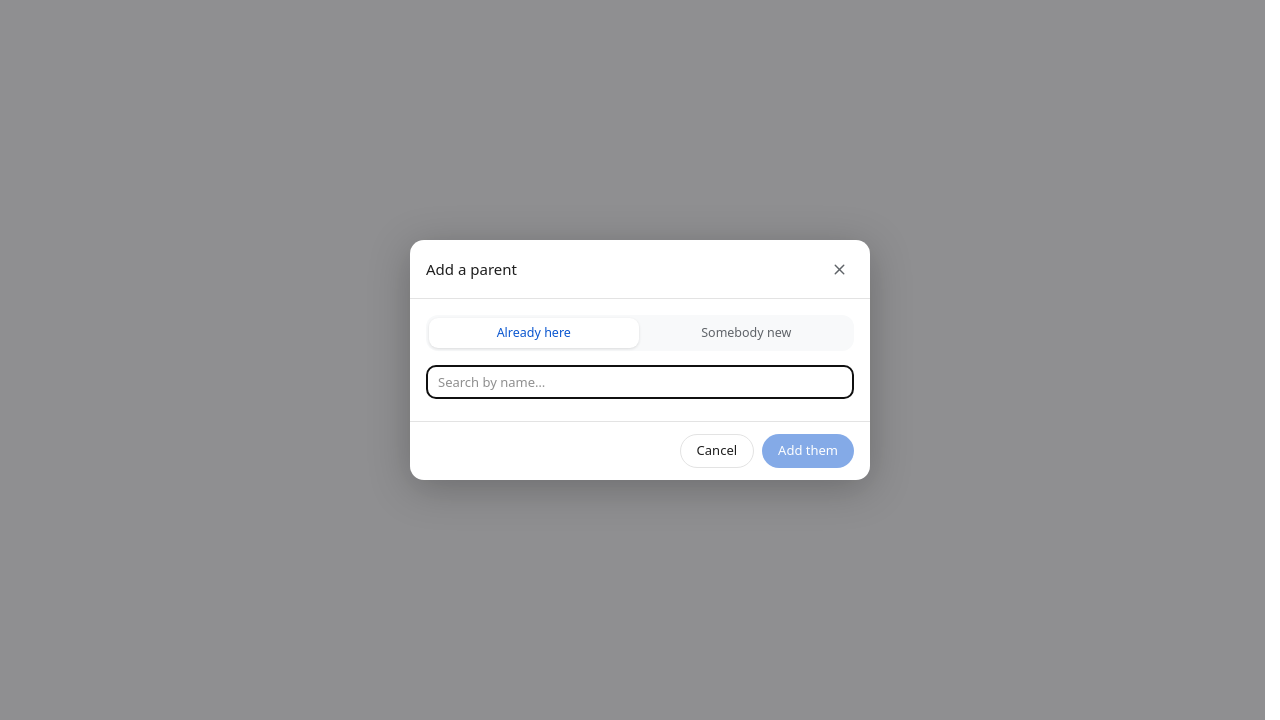
it: AddRelativeModal › error handling › shows an error message when submit fails
Click the button "Somebody new". click: {"x": 746, "y": 333}
box: [642,318,851,348]
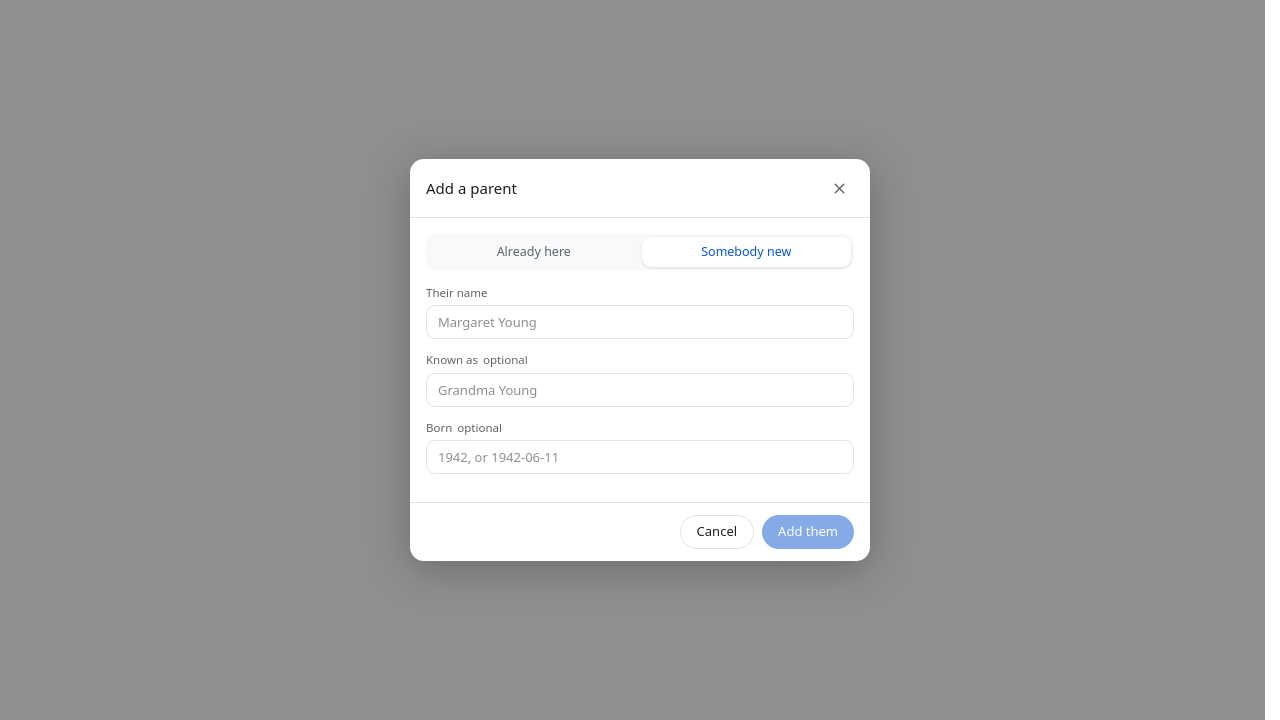
Type "X" into the field with placeholder "Margaret Young". click: {"x": 640, "y": 322}
box: [426,305,854,339]
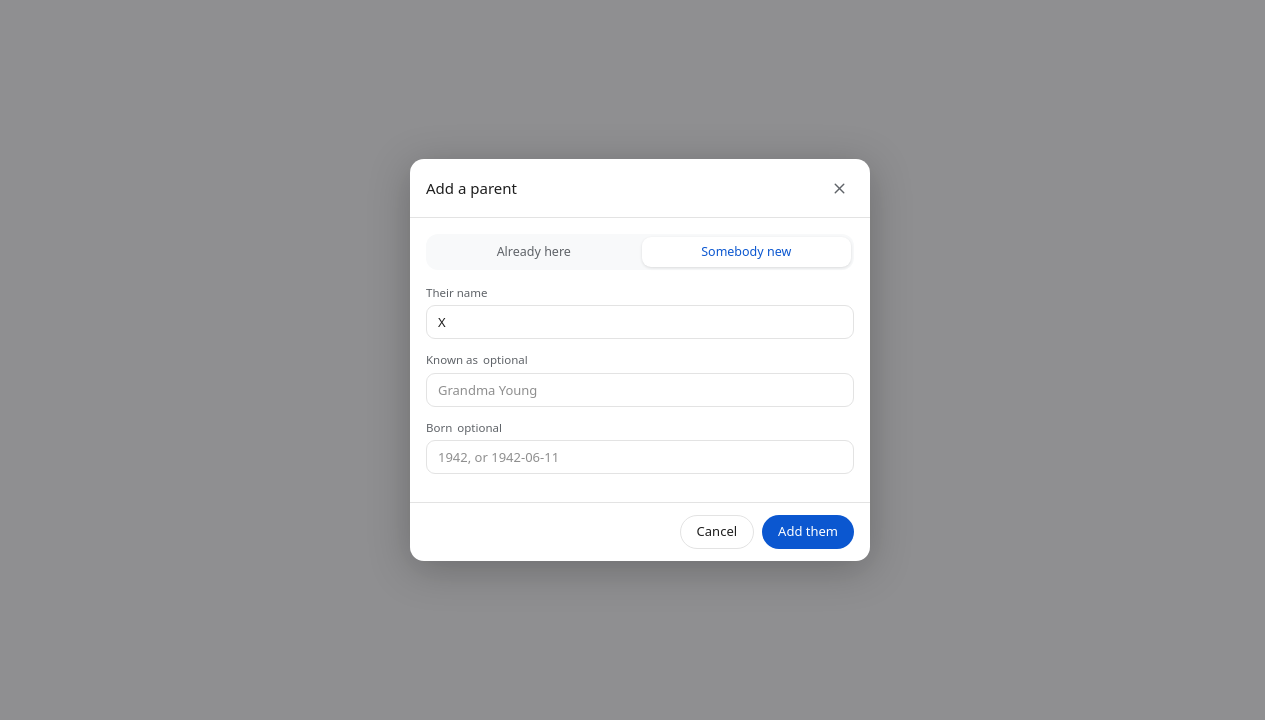
Click the button "Add them". click: {"x": 808, "y": 532}
box: [762,515,854,549]
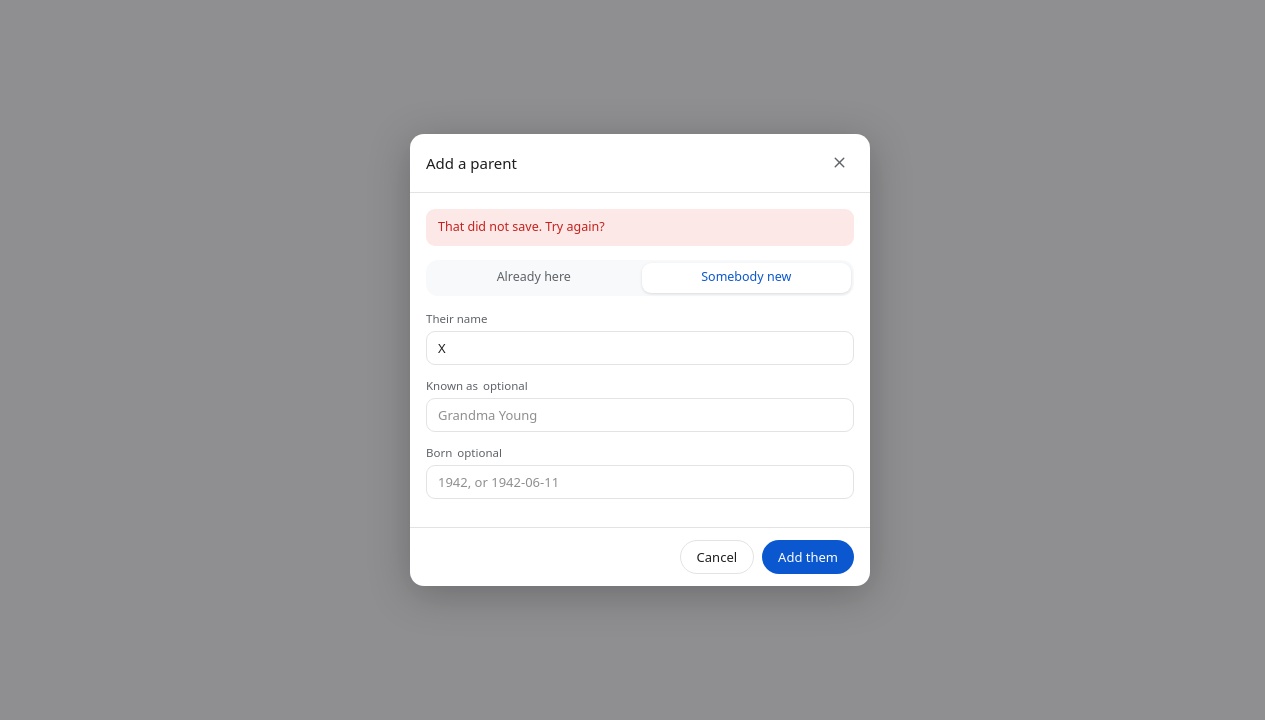
expect the text "That did not save. Try again?" is shown: met, box [426,209,854,246]
